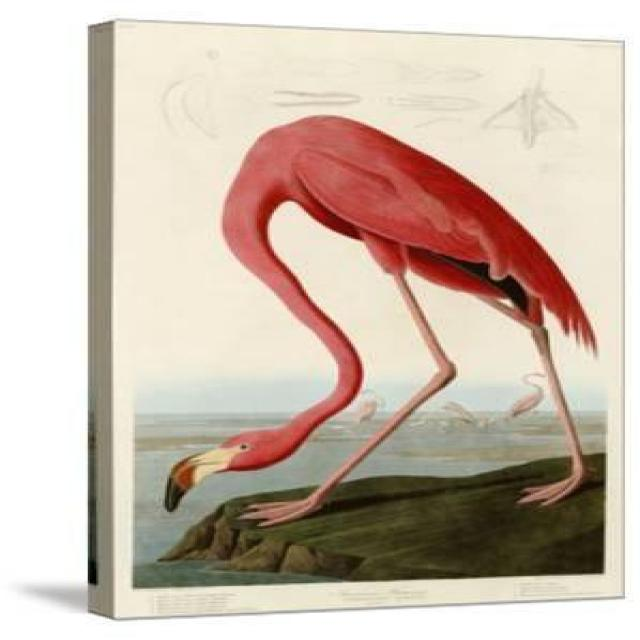Flamingo: (162, 112, 591, 524)
